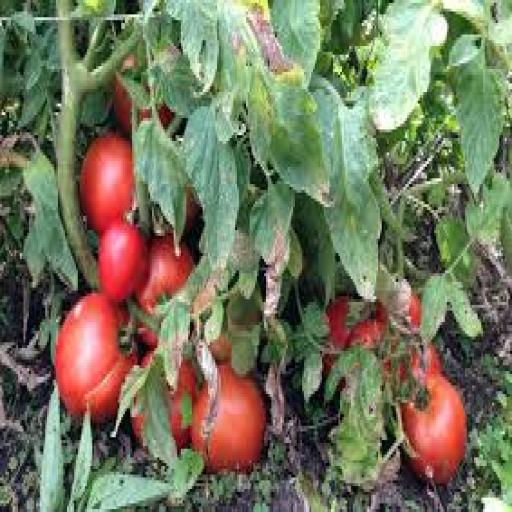tomato: (55, 294, 135, 422), (192, 363, 265, 471), (402, 374, 466, 483), (80, 133, 133, 235), (136, 236, 193, 313), (98, 222, 148, 302), (86, 351, 137, 422), (167, 363, 197, 451), (326, 297, 349, 350), (326, 297, 349, 348), (409, 346, 441, 382), (113, 78, 132, 135), (350, 320, 383, 348), (185, 187, 200, 230), (210, 334, 231, 362), (408, 294, 421, 330), (375, 303, 388, 325)
